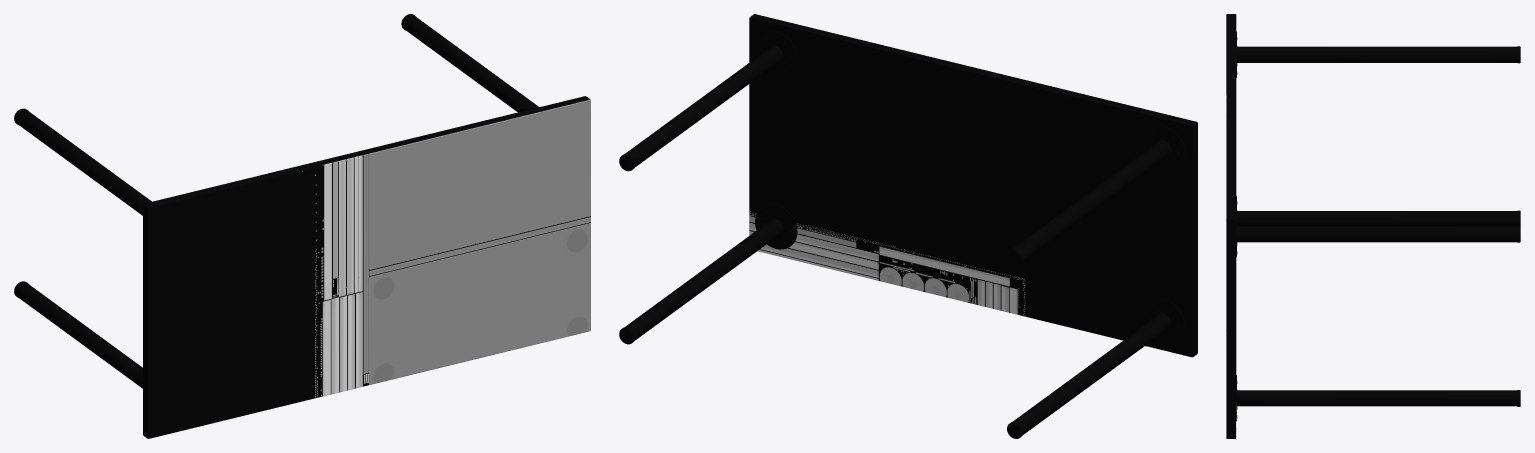
3 renders of one model, left to right at view 1: azimuth 30°, elevation 25°; view 2: azimuth 150°, elevation 25°; view 3: azimuth 270°, elevation 25°, orthographic. The views are drawn at different scales.
Size of the model in its own units: 0.6823 by 0.3412 by 0.4135.
